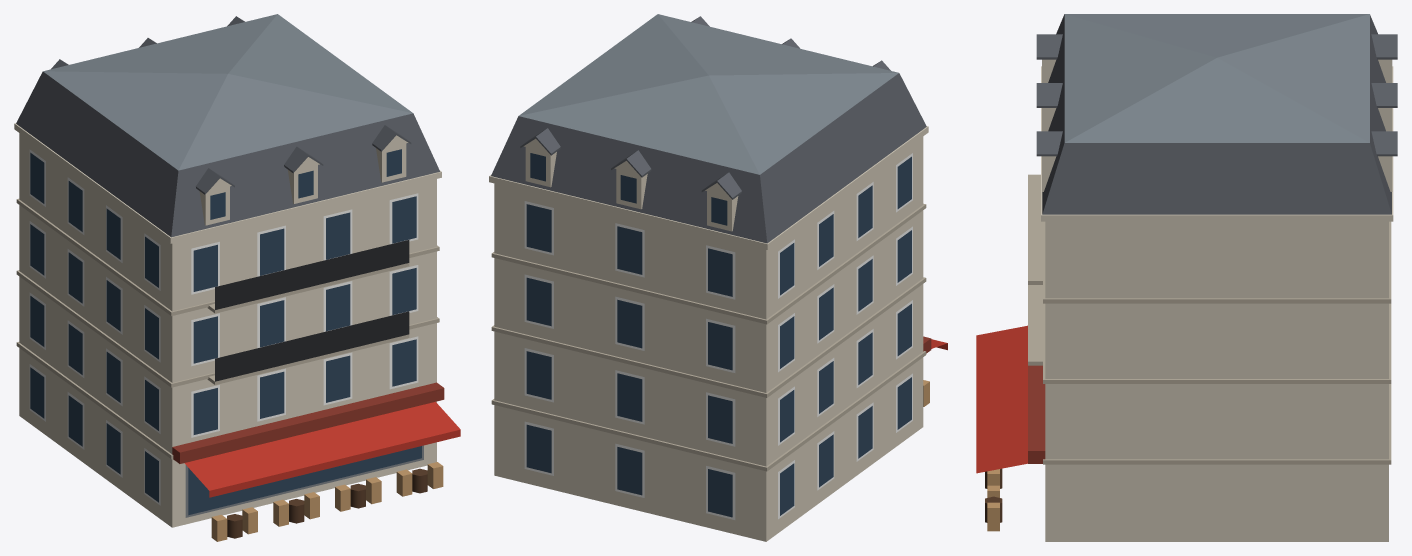
The model's file is bistrot_parisien.glb.
3 views of the same model, side by side, from view 1: azimuth 30°, elevation 25°; view 2: azimuth 150°, elevation 25°; view 3: azimuth 270°, elevation 25° (orthographic). The views are drawn at different scales.
Parts seen in each view (by area): view 1: bistrot_parisien; view 2: bistrot_parisien; view 3: bistrot_parisien.
Part boxes in pixels (box(x1,y1,x2,y2)): bistrot_parisien: box(14, 14, 460, 541); bistrot_parisien: box(489, 14, 947, 541); bistrot_parisien: box(976, 14, 1397, 541).
Bounding box in the file's own units: 12.3 × 15.85 × 14.69.
Materials: 1 (1 with a texture image).
